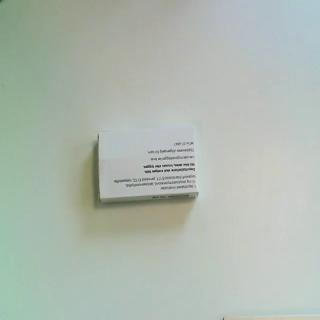oxycontin15mg: (96, 125, 200, 206)
